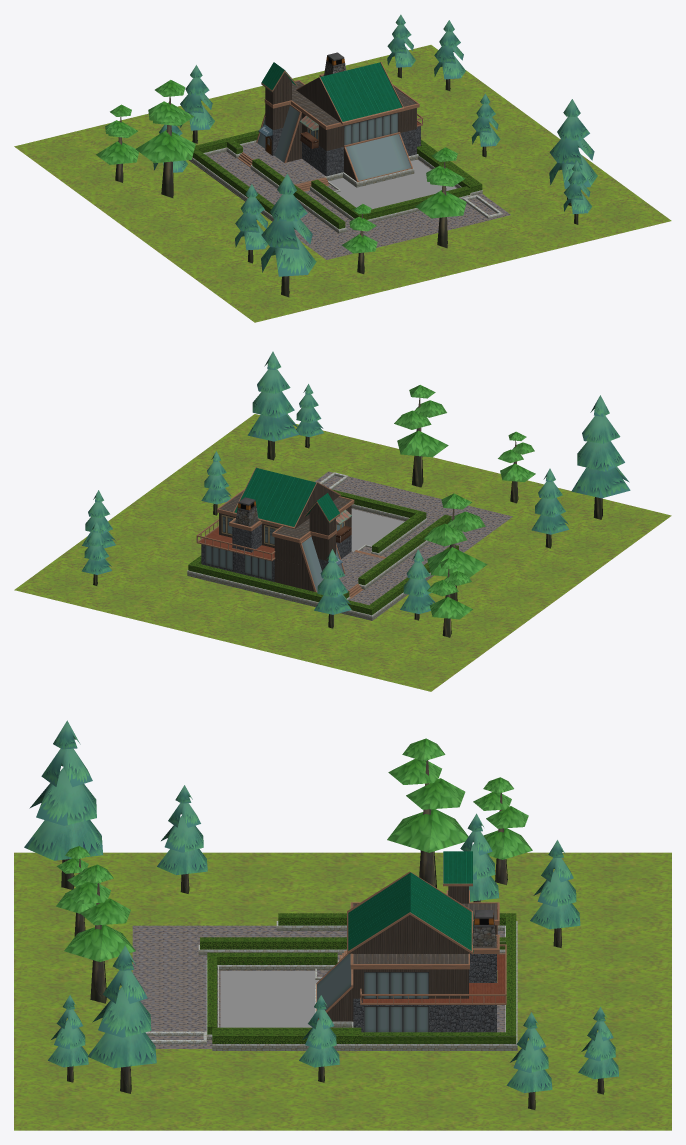
The model's file is zhuzhai_sankouzhijia01_lod.FBX.
3 views of the same model, one above another, from view 1: azimuth 30°, elevation 25°; view 2: azimuth 150°, elevation 25°; view 3: azimuth 270°, elevation 25° (orthographic). The views are drawn at different scales.
Visible parts, largest first — view 1: caodi, zhuzhai_sankouzhijia01_lod, shu, shui; view 2: caodi, zhuzhai_sankouzhijia01_lod, shu, shui; view 3: caodi, zhuzhai_sankouzhijia01_lod, shu, shui.
Part boxes in pixels (left/top/right/bottom): caodi: left=14, top=45, right=671, bottom=322; zhuzhai_sankouzhijia01_lod: left=189, top=52, right=510, bottom=259; shu: left=96, top=14, right=597, bottom=297; shui: left=329, top=159, right=456, bottom=209; caodi: left=14, top=414, right=671, bottom=691; zhuzhai_sankouzhijia01_lod: left=187, top=467, right=512, bottom=620; shu: left=81, top=351, right=630, bottom=637; shui: left=351, top=509, right=404, bottom=551; caodi: left=14, top=852, right=671, bottom=1130; zhuzhai_sankouzhijia01_lod: left=132, top=851, right=517, bottom=1050; shu: left=24, top=720, right=618, bottom=1109; shui: left=220, top=971, right=319, bottom=1027.
Bounding box in the file's own units: 6400 × 1902 × 6400.
